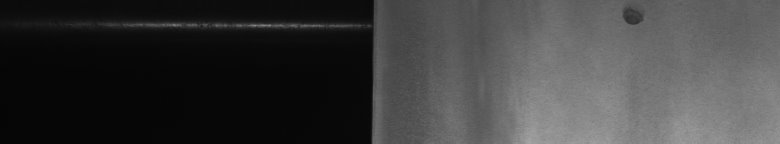fi: (616, 4, 648, 32)
